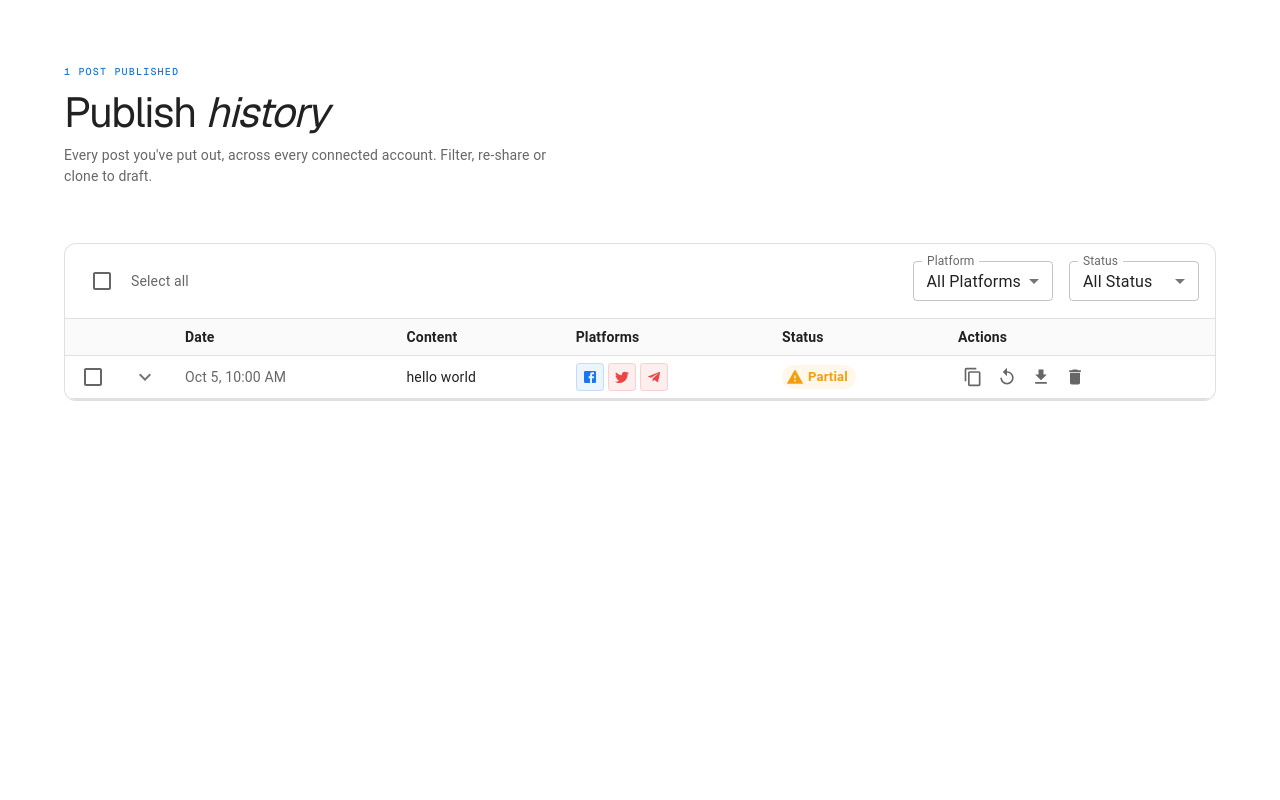
History retry › lists each destination with its account, outcome and error
What coordinates should you click on to do the following:
click the button named "Show details of post 99"
I would click on:
 (145, 377)
Its box is [133, 365, 157, 389].
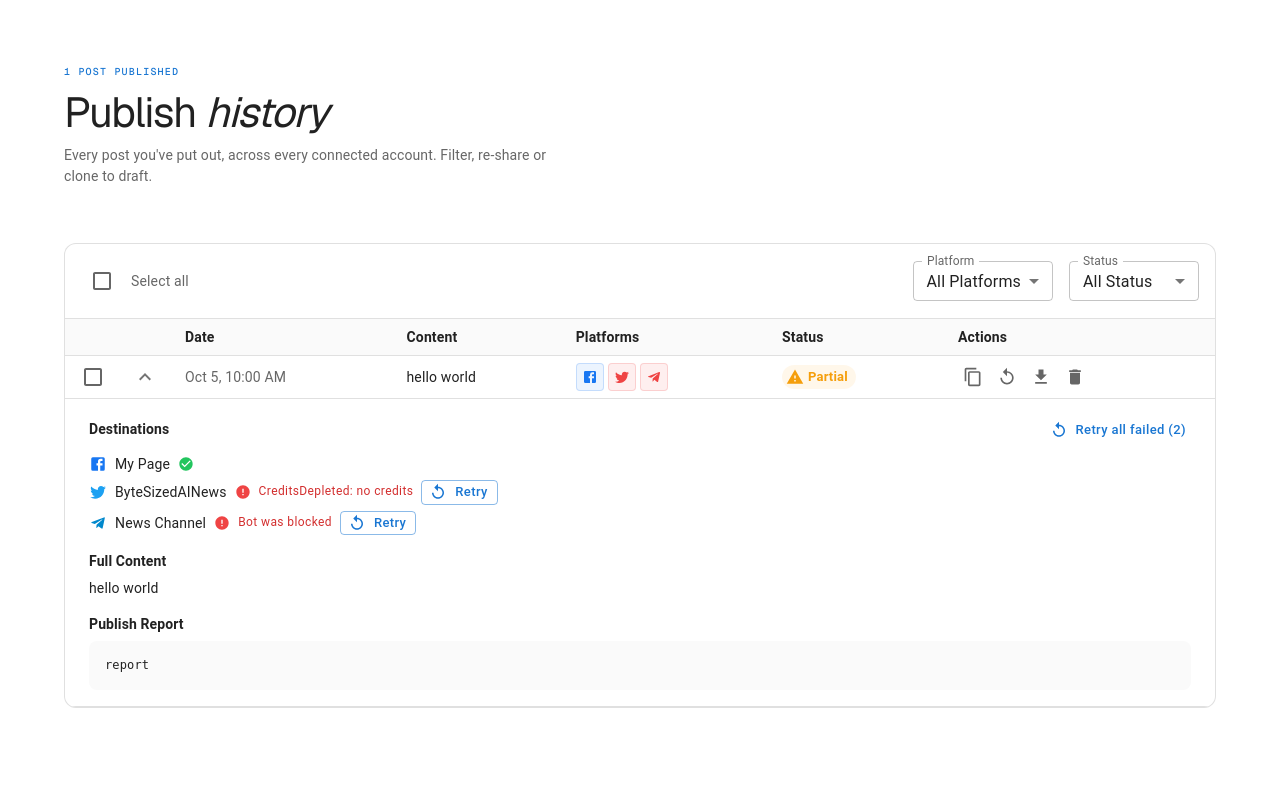
expect the element with test id "history-destination" shows "CreditsDepleted: no credits": met, box [259, 484, 413, 498]
